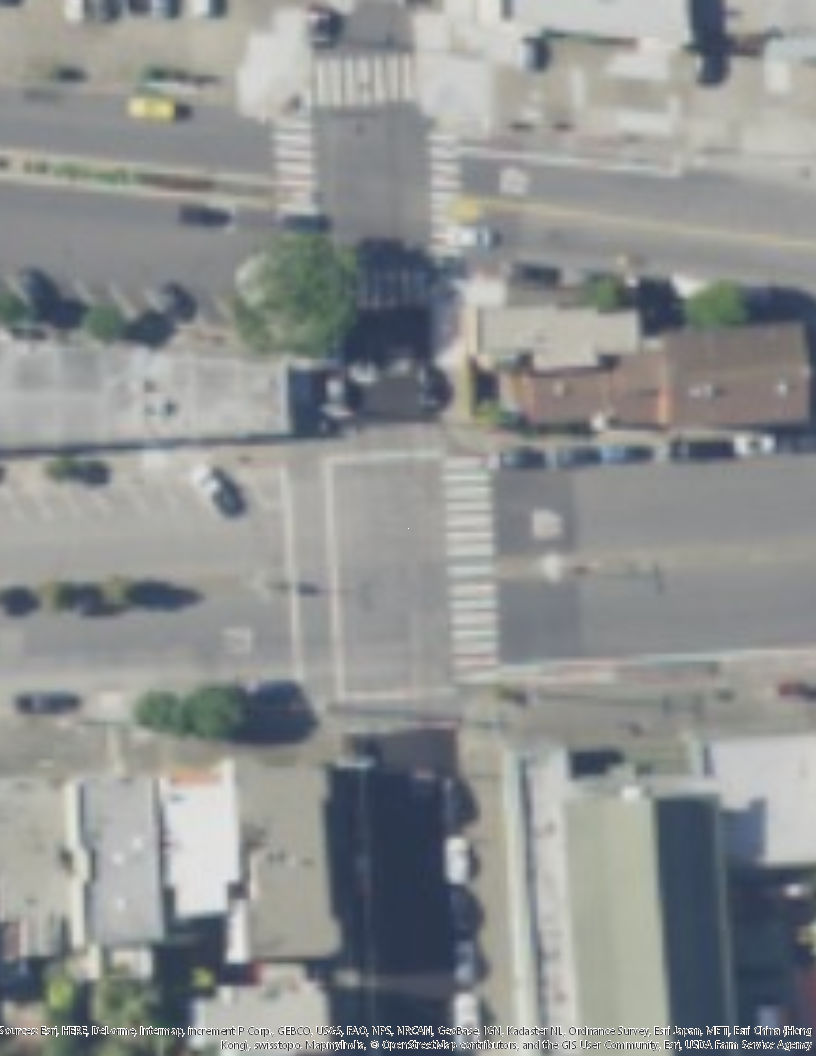zebracross: (438, 461, 505, 667), (308, 55, 413, 104), (429, 131, 464, 256), (275, 110, 314, 201)
